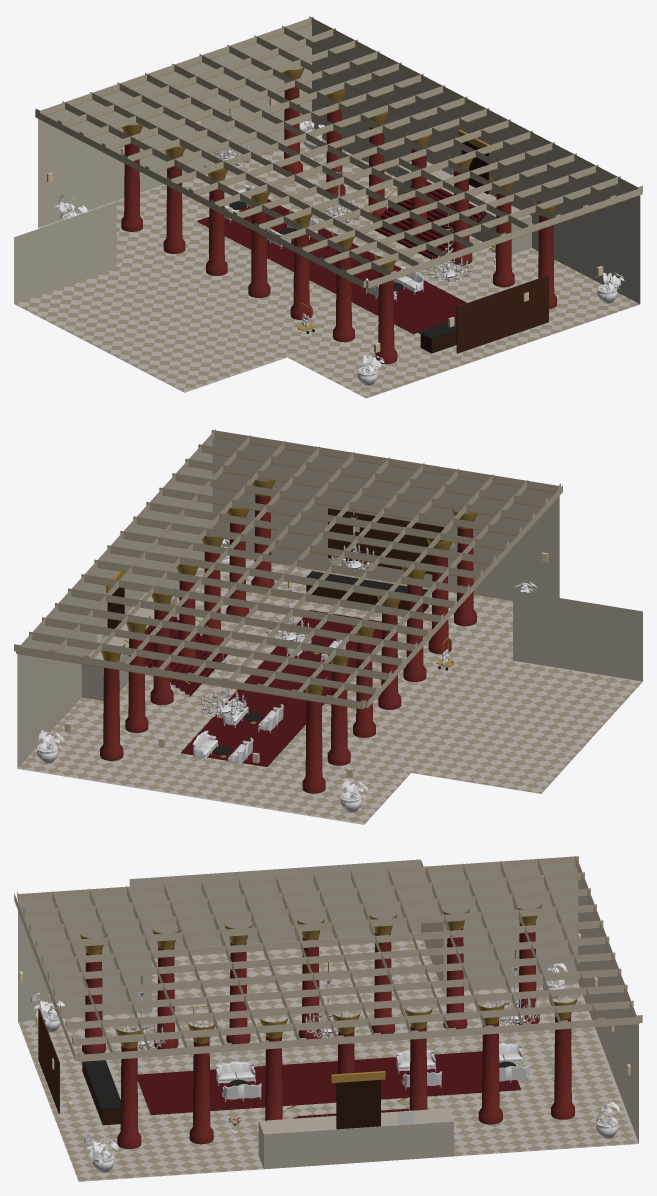
File: fairmont_int.glb
The picture shows the model from 3 angles, top to bottom: view 1: azimuth 30°, elevation 25°; view 2: azimuth 150°, elevation 25°; view 3: azimuth 270°, elevation 25°; orthographic projection. The views are drawn at different scales.
Visible parts, largest first — view 1: I_x_plaster, I_x_marble_white, I_x_carpet_red, I_x_gold, I_x_veneer, I_p_Chandelier_03__0, I_p_potted_plant_02__1, I_p_Sofa_01__0, I_p_potted_plant_02__0; view 2: I_x_plaster, I_x_marble_white, I_x_carpet_red, I_x_gold, I_x_veneer, I_p_Sofa_01__0, I_p_Chandelier_03__0, I_p_potted_plant_02__1, I_p_potted_plant_02__0; view 3: I_x_plaster, I_x_marble_white, I_x_carpet_red, I_x_gold, I_x_veneer, I_p_Sofa_01__0, I_p_potted_plant_02__1, I_p_Chandelier_03__0, I_p_potted_plant_02__0.
Boxes of the visible parts, x1=… form: I_x_plaster: x1=14, y1=16, x2=642, y2=303; I_x_marble_white: x1=14, y1=82, x2=639, y2=398; I_x_carpet_red: x1=196, y1=181, x2=485, y2=333; I_x_gold: x1=45, y1=24, x2=642, y2=288; I_x_veneer: x1=420, y1=141, x2=548, y2=353; I_p_Chandelier_03__0: x1=210, y1=113, x2=470, y2=283; I_p_potted_plant_02__1: x1=54, y1=113, x2=624, y2=373; I_p_Sofa_01__0: x1=209, y1=184, x2=423, y2=301; I_p_potted_plant_02__0: x1=62, y1=131, x2=617, y2=385; I_x_plaster: x1=14, y1=429, x2=642, y2=768; I_x_marble_white: x1=17, y1=494, x2=642, y2=824; I_x_carpet_red: x1=144, y1=610, x2=381, y2=766; I_x_gold: x1=16, y1=437, x2=555, y2=709; I_x_veneer: x1=107, y1=508, x2=443, y2=635; I_p_Sofa_01__0: x1=192, y1=632, x2=346, y2=766; I_p_Chandelier_03__0: x1=200, y1=516, x2=376, y2=718; I_p_potted_plant_02__1: x1=37, y1=536, x2=537, y2=801; I_p_potted_plant_02__0: x1=37, y1=555, x2=361, y2=812; I_x_plaster: x1=14, y1=855, x2=642, y2=1142; I_x_marble_white: x1=18, y1=923, x2=638, y2=1181; I_x_carpet_red: x1=137, y1=1051, x2=521, y2=1118; I_x_gold: x1=14, y1=865, x2=642, y2=1082; I_x_veneer: x1=38, y1=1009, x2=380, y2=1129; I_p_Sofa_01__0: x1=216, y1=1043, x2=528, y2=1101; I_p_potted_plant_02__1: x1=30, y1=963, x2=626, y2=1166; I_p_Chandelier_03__0: x1=119, y1=966, x2=538, y2=1050; I_p_potted_plant_02__0: x1=43, y1=979, x2=618, y2=1172.
Bounding box in the file's own units: 37.06 × 9.15 × 39.22.
